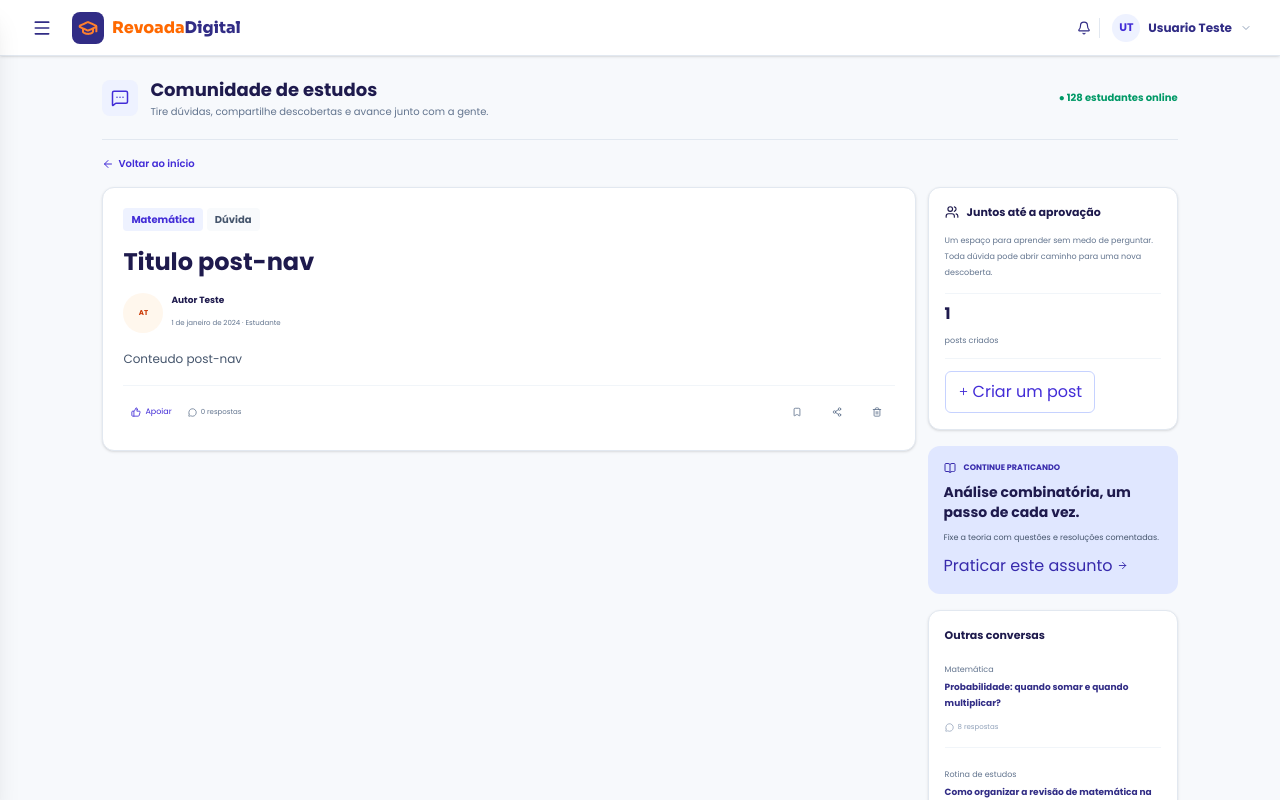
Comunidade - exclusao e navegacao na lista › clicar na area do card (fora do controle) navega para o detalhe do post
The image size is (1280, 800).
Click the heading "Titulo post-nav".
click(219, 262)  # box [123,245,314,278]
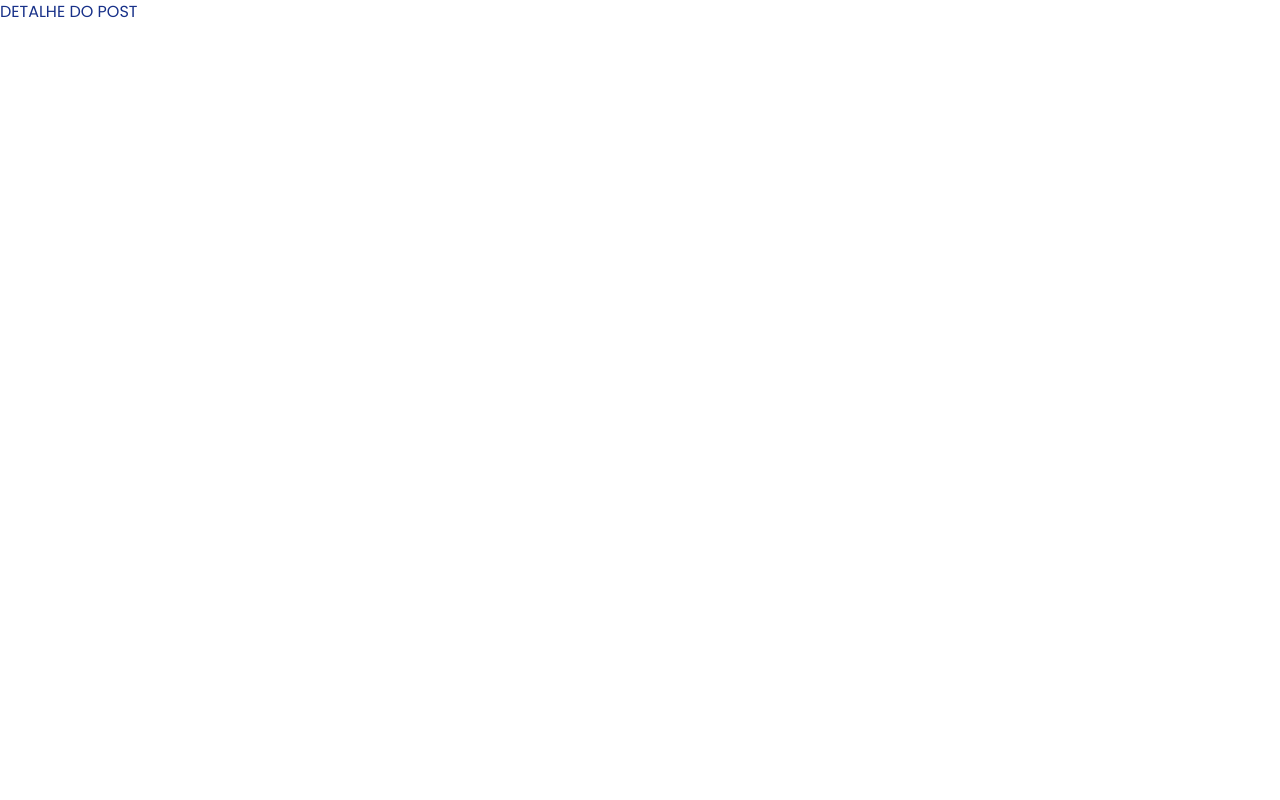
Expected: the text "DETALHE DO POST" is shown, [0,0,138,23]
